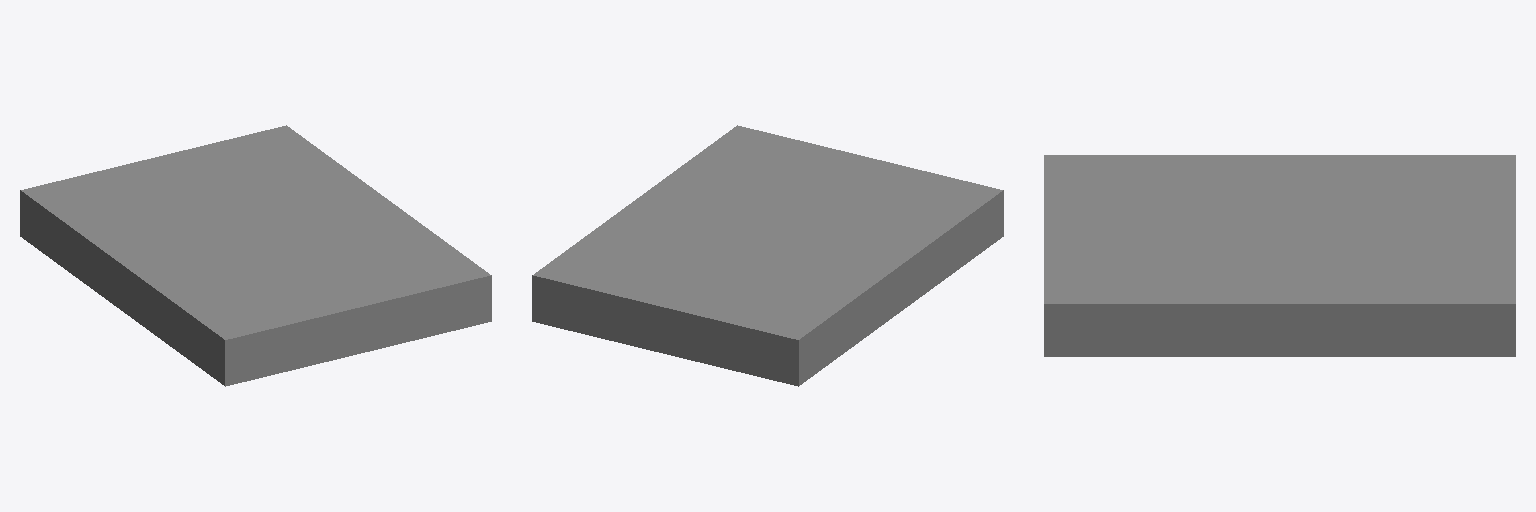
robot.urdf — assem2:
<?xml version="1.0" encoding="utf-8"?>
<!-- This URDF was automatically created by SolidWorks to URDF Exporter! Originally created by [author] ([email redacted]) 
     Commit Version: 1.6.0-4-g7f85cfe  Build Version: 1.6.7995.38578
     For more information, please see http://wiki.ros.org/sw_urdf_exporter -->
<robot
  name="assem2">
  <link
    name="base_link">
    <inertial>
      <origin
        xyz="-1.1102E-16 2.2204E-16 0.039627"
        rpy="0 0 0" />
      <mass
        value="5.5104" />
      <inertia
        ixx="0.032533"
        ixy="5.7234E-17"
        ixz="1.7979E-18"
        iyy="0.032533"
        iyz="-4.7415E-18"
        izz="0.058905" />
    </inertial>
    <visual>
      <origin
        xyz="0 0 0"
        rpy="0 0 0" />
      <geometry>
        <mesh
          filename="package://arm2/meshes/base_link.STL" />
      </geometry>
      <material
        name="">
        <color
          rgba="0.6 0.6 0.6 1" />
      </material>
    </visual>
    <collision>
      <origin
        xyz="0 0 0"
        rpy="0 0 0" />
      <geometry>
        <mesh
          filename="package://arm2/meshes/base_link.STL" />
      </geometry>
    </collision>
  </link>
  <link
    name="link1">
    <inertial>
      <origin
        xyz="-0.056315 0.081396 0.0023965"
        rpy="0 0 0" />
      <mass
        value="2.2549" />
      <inertia
        ixx="0.011608"
        ixy="0.0088797"
        ixz="0.00040169"
        iyy="0.01588"
        iyz="-0.00035105"
        izz="0.023156" />
    </inertial>
    <visual>
      <origin
        xyz="0 0 0"
        rpy="0 0 0" />
      <geometry>
        <mesh
          filename="package://arm2/meshes/link1.STL" />
      </geometry>
      <material
        name="">
        <color
          rgba="0.66667 0.69804 0.76863 1" />
      </material>
    </visual>
    <collision>
      <origin
        xyz="0 0 0"
        rpy="0 0 0" />
      <geometry>
        <mesh
          filename="package://arm2/meshes/link1.STL" />
      </geometry>
    </collision>
  </link>
  <joint
    name="joint1"
    type="continuous">
    <origin
      xyz="0 0 0.085"
      rpy="1.5708 0 -0.74673" />
    <parent
      link="base_link" />
    <child
      link="link1" />
    <axis
      xyz="0 1 0" />
  </joint>
  <link
    name="link2">
    <inertial>
      <origin
        xyz="-0.142663613176583 0.0352229223825857 0.00806022588587538"
        rpy="0 0 0" />
      <mass
        value="0.920713555975187" />
      <inertia
        ixx="0.00061486733830369"
        ixy="-7.16275973386533E-05"
        ixz="0.000152423363787186"
        iyy="0.0182053007337512"
        iyz="3.03732107580609E-05"
        izz="0.017861302567327" />
    </inertial>
    <visual>
      <origin
        xyz="0 0 0"
        rpy="0 0 0" />
      <geometry>
        <mesh
          filename="package://arm2/meshes/link2.STL" />
      </geometry>
      <material
        name="">
        <color
          rgba="0.898039215686275 0.898039215686275 0.898039215686275 1" />
      </material>
    </visual>
    <collision>
      <origin
        xyz="0 0 0"
        rpy="0 0 0" />
      <geometry>
        <mesh
          filename="package://arm2/meshes/link2.STL" />
      </geometry>
    </collision>
  </link>
  <joint
    name="joint2"
    type="continuous">
    <origin
      xyz="-0.15 0.16 0"
      rpy="-1.5708 0 -2.4278" />
    <parent
      link="link1" />
    <child
      link="link2" />
    <axis
      xyz="0 1 0" />
  </joint>
  <link
    name="link3">
    <inertial>
      <origin
        xyz="-0.0446166902632723 0.0399157420458244 -0.0260371637300619"
        rpy="0 0 0" />
      <mass
        value="1.43146473147269" />
      <inertia
        ixx="0.00186636943424452"
        ixy="0.000324747082507763"
        ixz="-9.34134620176995E-05"
        iyy="0.00807676480884427"
        iyz="0.00011285860202943"
        izz="0.0084455456784283" />
    </inertial>
    <visual>
      <origin
        xyz="0 0 0"
        rpy="0 0 0" />
      <geometry>
        <mesh
          filename="package://arm2/meshes/link3.STL" />
      </geometry>
      <material
        name="">
        <color
          rgba="0.666666666666667 0.698039215686274 0.768627450980392 1" />
      </material>
    </visual>
    <collision>
      <origin
        xyz="0 0 0"
        rpy="0 0 0" />
      <geometry>
        <mesh
          filename="package://arm2/meshes/link3.STL" />
      </geometry>
    </collision>
  </link>
  <joint
    name="joint3"
    type="continuous">
    <origin
      xyz="-0.35 0 0"
      rpy="1.5708 -1.0682 -3.1416" />
    <parent
      link="link2" />
    <child
      link="link3" />
    <axis
      xyz="0 0 1" />
  </joint>
  <link
    name="link4">
    <inertial>
      <origin
        xyz="-0.104023389652315 1.3429757306227E-10 1.37910349806702E-10"
        rpy="0 0 0" />
      <mass
        value="0.581435340015361" />
      <inertia
        ixx="0.000596524046931501"
        ixy="3.0180766197839E-12"
        ixz="4.08716975736946E-12"
        iyy="0.00158017082218178"
        iyz="-2.28910193290867E-10"
        izz="0.0014063461459381" />
    </inertial>
    <visual>
      <origin
        xyz="0 0 0"
        rpy="0 0 0" />
      <geometry>
        <mesh
          filename="package://arm2/meshes/link4.STL" />
      </geometry>
      <material
        name="">
        <color
          rgba="0.792156862745098 0.819607843137255 0.933333333333333 1" />
      </material>
    </visual>
    <collision>
      <origin
        xyz="0 0 0"
        rpy="0 0 0" />
      <geometry>
        <mesh
          filename="package://arm2/meshes/link4.STL" />
      </geometry>
    </collision>
  </link>
  <joint
    name="joint4"
    type="continuous">
    <origin
      xyz="-0.21294 0.045 -0.0275"
      rpy="-0.89378 0 0" />
    <parent
      link="link3" />
    <child
      link="link4" />
    <axis
      xyz="1 0 0" />
  </joint>
  <link
    name="link5">
    <inertial>
      <origin
        xyz="-0.00067831823908715 1.11022302462516E-15 0.058961855128781"
        rpy="0 0 0" />
      <mass
        value="0.339144547925523" />
      <inertia
        ixx="0.000358769992191287"
        ixy="1.35525271560688E-20"
        ixz="-3.56575702010593E-06"
        iyy="0.000355541202477725"
        iyz="-1.28749007982654E-19"
        izz="0.000248853470602005" />
    </inertial>
    <visual>
      <origin
        xyz="0 0 0"
        rpy="0 0 0" />
      <geometry>
        <mesh
          filename="package://arm2/meshes/link5.STL" />
      </geometry>
      <material
        name="">
        <color
          rgba="0.666666666666667 0.698039215686274 0.768627450980392 1" />
      </material>
    </visual>
    <collision>
      <origin
        xyz="0 0 0"
        rpy="0 0 0" />
      <geometry>
        <mesh
          filename="package://arm2/meshes/link5.STL" />
      </geometry>
    </collision>
  </link>
  <joint
    name="joint5"
    type="continuous">
    <origin
      xyz="-0.14806 0 0"
      rpy="3.0426 1.5708 0" />
    <parent
      link="link4" />
    <child
      link="link5" />
    <axis
      xyz="1 0 0" />
  </joint>
  <link
    name="link6">
    <inertial>
      <origin
        xyz="-0.0419966133772153 -1.11022302462516E-16 5.55111512312578E-17"
        rpy="0 0 0" />
      <mass
        value="0.0762574810565131" />
      <inertia
        ixx="3.99525744954328E-05"
        ixy="-9.52912065661088E-21"
        ixz="-1.86347248395946E-20"
        iyy="3.7955979870062E-05"
        iyz="6.35274710440725E-21"
        izz="3.20288004196062E-05" />
    </inertial>
    <visual>
      <origin
        xyz="0 0 0"
        rpy="0 0 0" />
      <geometry>
        <mesh
          filename="package://arm2/meshes/link6.STL" />
      </geometry>
      <material
        name="">
        <color
          rgba="0.666666666666667 0.698039215686274 0.768627450980392 1" />
      </material>
    </visual>
    <collision>
      <origin
        xyz="0 0 0"
        rpy="0 0 0" />
      <geometry>
        <mesh
          filename="package://arm2/meshes/link6.STL" />
      </geometry>
    </collision>
  </link>
  <joint
    name="joint6"
    type="continuous">
    <origin
      xyz="-0.0005 0 0.068288"
      rpy="0.68644 1.5708 0" />
    <parent
      link="link5" />
    <child
      link="link6" />
    <axis
      xyz="1 0 0" />
  </joint>
  <link
    name="link7">
    <inertial>
      <origin
        xyz="-0.000171695716224329 -0.0477938544830655 -0.0357274171480635"
        rpy="0 0 0" />
      <mass
        value="0.0459845756601323" />
      <inertia
        ixx="6.09315616899348E-05"
        ixy="-1.06736207403745E-07"
        ixz="-4.5174034570255E-08"
        iyy="1.95971154056262E-05"
        iyz="-2.31066868313526E-05"
        izz="4.38592111632924E-05" />
    </inertial>
    <visual>
      <origin
        xyz="0 0 0"
        rpy="0 0 0" />
      <geometry>
        <mesh
          filename="package://arm2/meshes/link7.STL" />
      </geometry>
      <material
        name="">
        <color
          rgba="0.666666666666667 0.698039215686274 0.768627450980392 1" />
      </material>
    </visual>
    <collision>
      <origin
        xyz="0 0 0"
        rpy="0 0 0" />
      <geometry>
        <mesh
          filename="package://arm2/meshes/link7.STL" />
      </geometry>
    </collision>
  </link>
  <joint
    name="joint7"
    type="continuous">
    <origin
      xyz="-0.0593436351538184 0 -0.0401317279836453"
      rpy="1.3523308884143 0 1.57079632679489" />
    <parent
      link="link6" />
    <child
      link="link7" />
    <axis
      xyz="1 0 0" />
  </joint>
</robot>

--- Render facts (derived) ---
Views: 3 orthographic renders of the robot side by side, from view 1: azimuth 30°, elevation 25°; view 2: azimuth 150°, elevation 25°; view 3: azimuth 270°, elevation 25°.
Robot: assem2 — 8 links, 7 joints (7 continuous); root link base_link; default pose: every joint at zero.
Visible links, largest first — view 1: base_link; view 2: base_link; view 3: base_link.
Boxes of the visible links, left/top/right/bottom form: base_link: left=20, top=125, right=491, bottom=386; base_link: left=532, top=125, right=1003, bottom=386; base_link: left=1044, top=155, right=1515, bottom=356.
Bounding box of the posed robot: 480 × 640 × 80 m (x, y, z).
Meshes: 8 distinct files referenced, 1 mesh visuals loaded (1 binary STL); not drawn: 7 (reference not matched to a file when rendering).